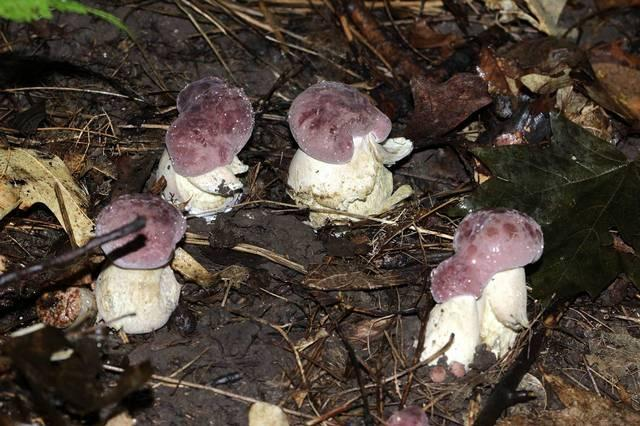poisonous_mushroom: (417, 206, 544, 378), (284, 79, 414, 230), (147, 75, 255, 218), (92, 191, 187, 334)
